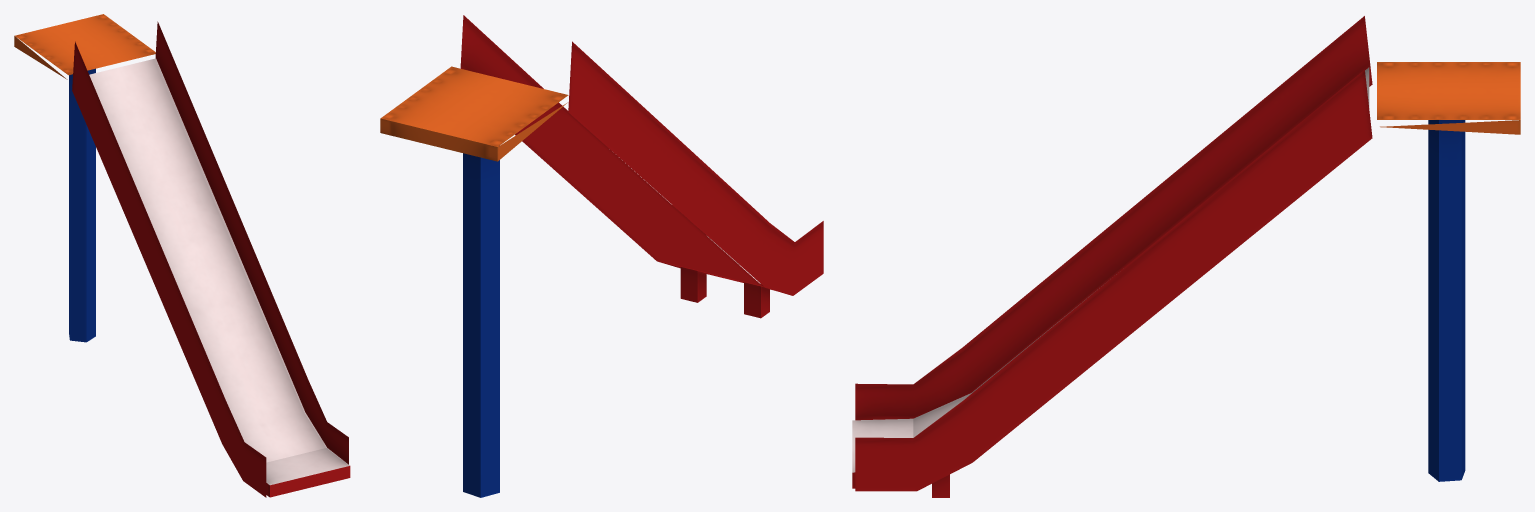
The model's file is slide.glb.
3 renders of one model, left to right at view 1: azimuth 30°, elevation 25°; view 2: azimuth 150°, elevation 25°; view 3: azimuth 270°, elevation 25°, orthographic. The views are drawn at different scales.
Parts seen in each view (by area): view 1: Slide_Mesh; view 2: Slide_Mesh; view 3: Slide_Mesh.
Boxes of the visible parts, x1,y1,x2,y2 form: Slide_Mesh: (14, 14, 350, 497); Slide_Mesh: (380, 15, 823, 497); Slide_Mesh: (852, 16, 1520, 497).
Size of the model in its own units: 1.06 by 3.72 by 5.17.
Materials: 1 (1 with a texture image).
